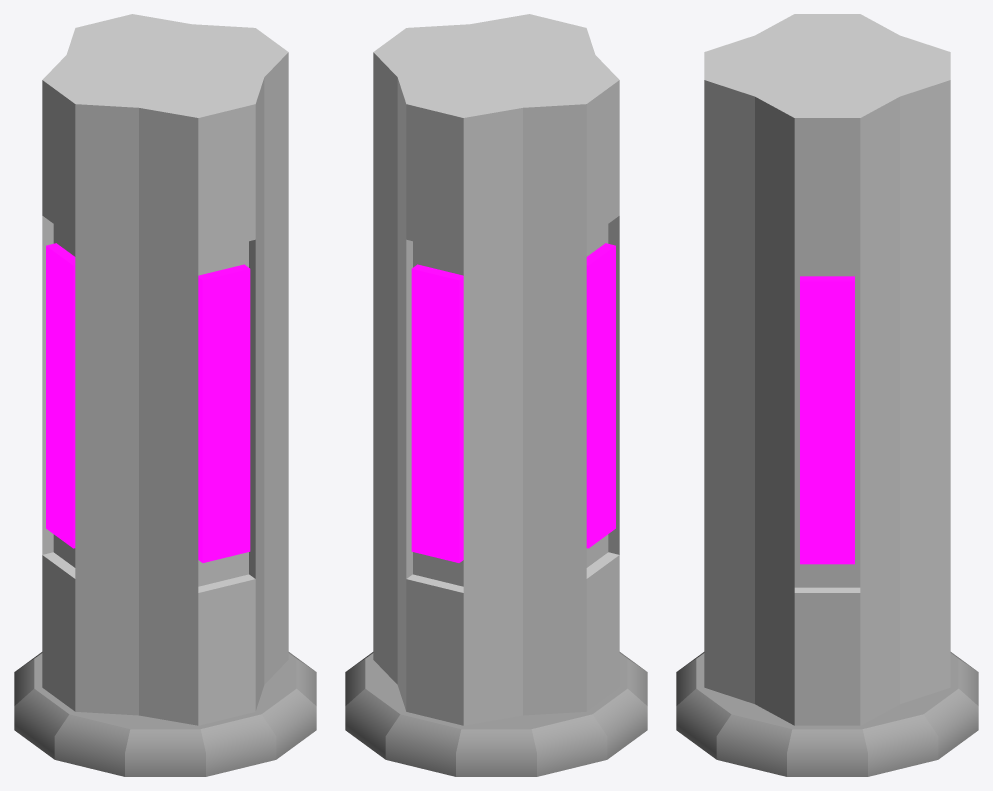
The model's file is GAME3040 - Button Pedestal.fbx.
3 views of the same model, side by side, from view 1: azimuth 30°, elevation 25°; view 2: azimuth 150°, elevation 25°; view 3: azimuth 270°, elevation 25° (orthographic).
Visible parts, largest first — view 1: pCylinder1; view 2: pCylinder1; view 3: pCylinder1.
Part boxes in pixels (x1,y1,x2,y2): pCylinder1: (14,14,316,776); pCylinder1: (345,14,647,776); pCylinder1: (676,14,978,776).
Bounding box in the file's own units: 2.97 × 7 × 2.97.
